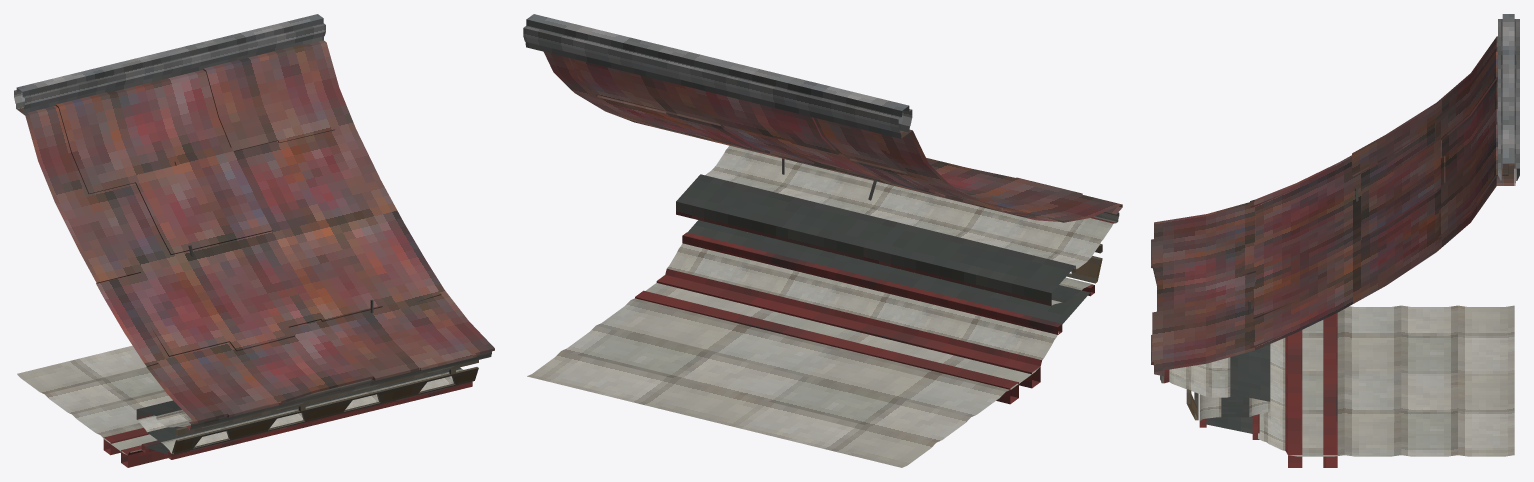
File: Pagoda_Tile_Roof_5000x5000_A.FBX
3 views of the same model, side by side, from view 1: azimuth 30°, elevation 25°; view 2: azimuth 150°, elevation 25°; view 3: azimuth 270°, elevation 25° (orthographic). The views are drawn at different scales.
Parts seen in each view (by area): view 1: Geometry_Pagoda_Tile_Roof_5000x5000_A_LOD00; view 2: Geometry_Pagoda_Tile_Roof_5000x5000_A_LOD00; view 3: Geometry_Pagoda_Tile_Roof_5000x5000_A_LOD00.
Part boxes in pixels (<box>): Geometry_Pagoda_Tile_Roof_5000x5000_A_LOD00: <box>14,14,494,467</box>; Geometry_Pagoda_Tile_Roof_5000x5000_A_LOD00: <box>523,14,1122,467</box>; Geometry_Pagoda_Tile_Roof_5000x5000_A_LOD00: <box>1151,14,1519,467</box>.
Size of what is drawn, in the model's own units: 5000 by 4742 by 5210.
